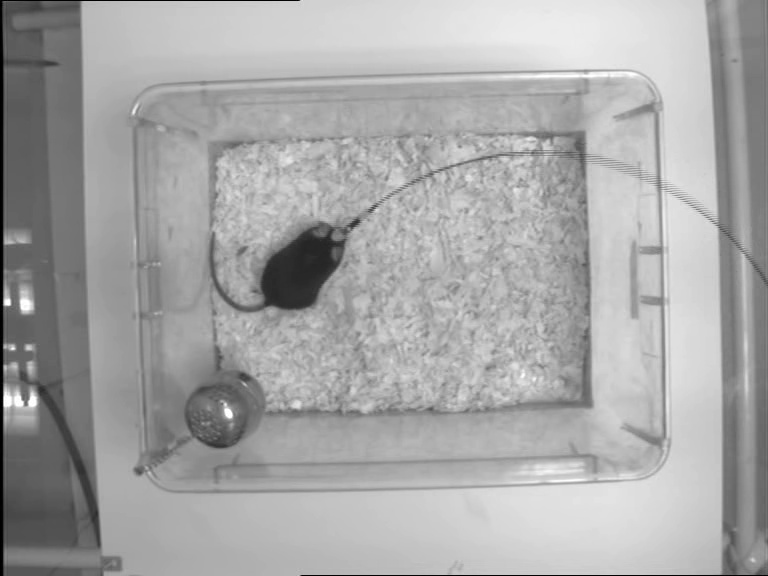mice: (208, 216, 347, 313)
